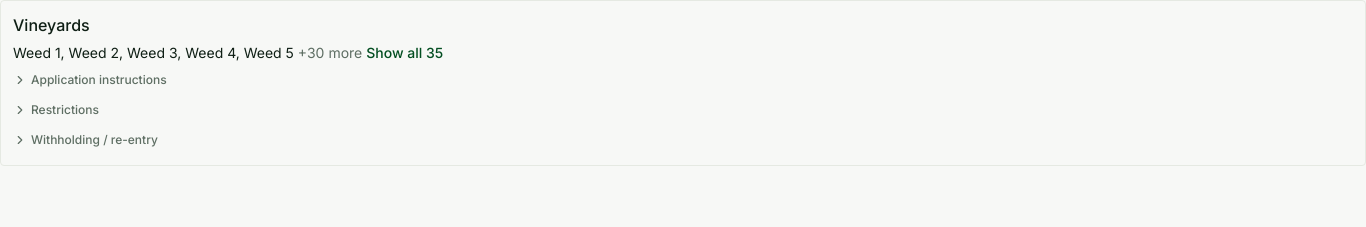
Test: V3 first live result display › vineyard uses never render JSON and targets collapse behind Show all
Expected: the text "NOT REQUIRED WHEN USED AS DIRECTED" is not shown
Click the button "Show all 35" at (405, 53), box [366,43,443,63]
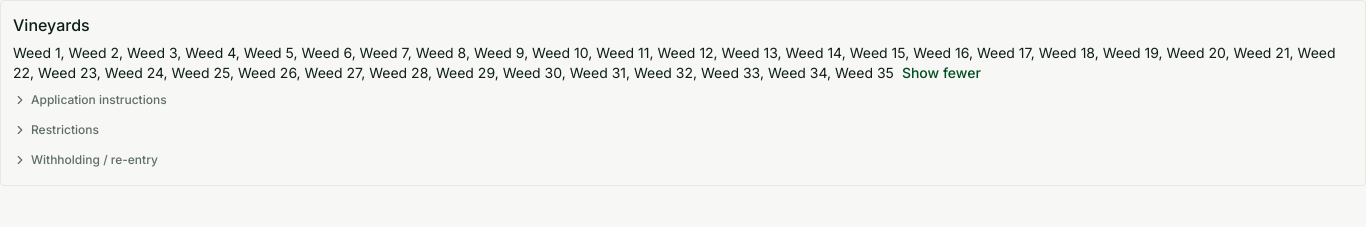
Click the button "Withholding / re-entry" at (85, 160), box [13,152,158,168]
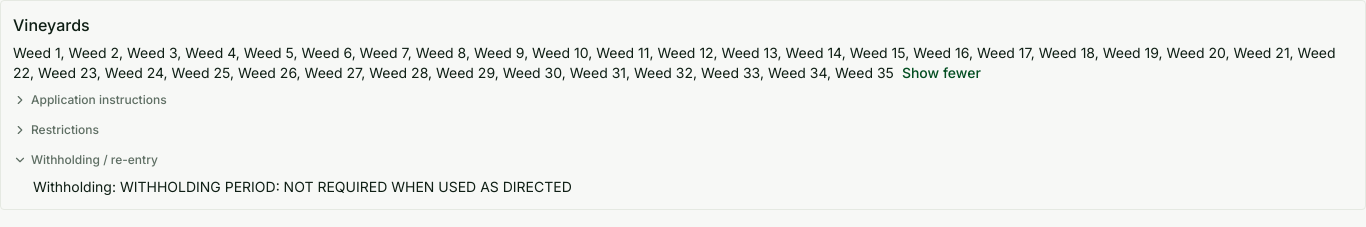
Now the text "Weed 35" is shown, box [13,44,1336,81]
Now the text "NOT REQUIRED WHEN USED AS DIRECTED" is shown, box [33,178,572,195]
